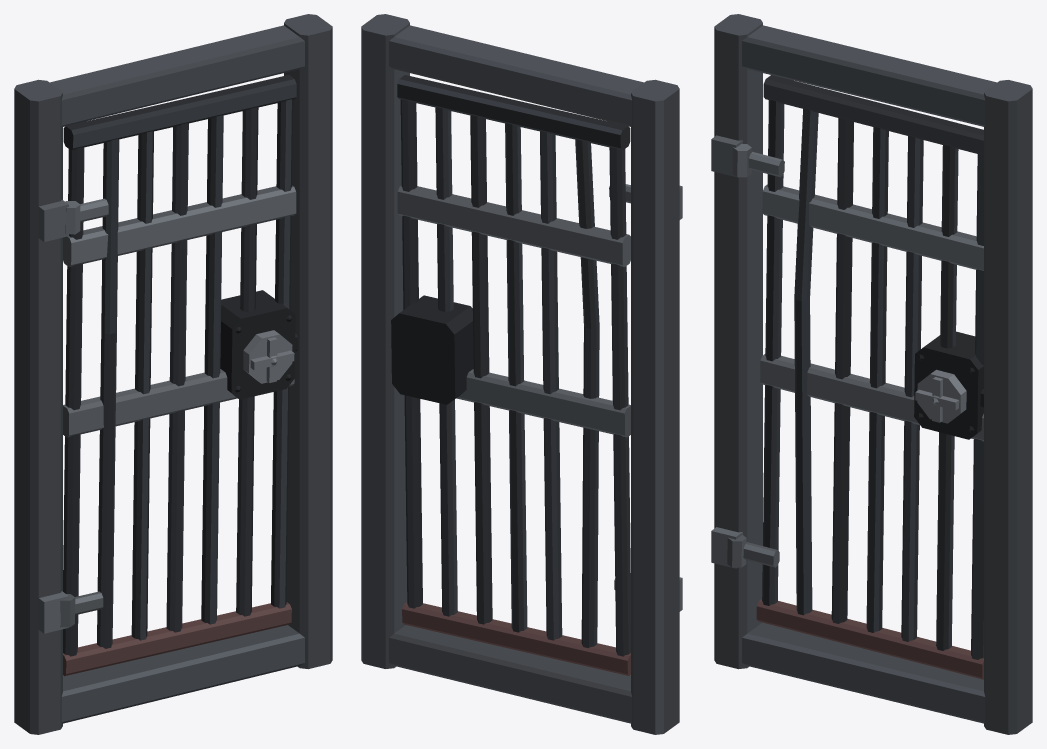
File: barred-cell-door-571e9c.glb
3 renders of one model, left to right at view 1: azimuth 30°, elevation 25°; view 2: azimuth 150°, elevation 25°; view 3: azimuth 330°, elevation 25°, orthographic.
Parts seen in each view (by area): view 1: barred-cell-door, door-hang, lock-wheel; view 2: door-hang, barred-cell-door; view 3: barred-cell-door, door-hang, lock-wheel.
Boxes of the visible parts, box(x1,y1,x2,y2) form: barred-cell-door: box(14, 14, 332, 734); door-hang: box(60, 75, 297, 676); lock-wheel: box(243, 330, 294, 383); door-hang: box(391, 75, 630, 676); barred-cell-door: box(361, 14, 682, 734); barred-cell-door: box(711, 14, 1032, 734); door-hang: box(727, 75, 983, 679); lock-wheel: box(915, 369, 966, 423).
Size of the model in its own units: 1.1 by 2.2 by 0.2315.
